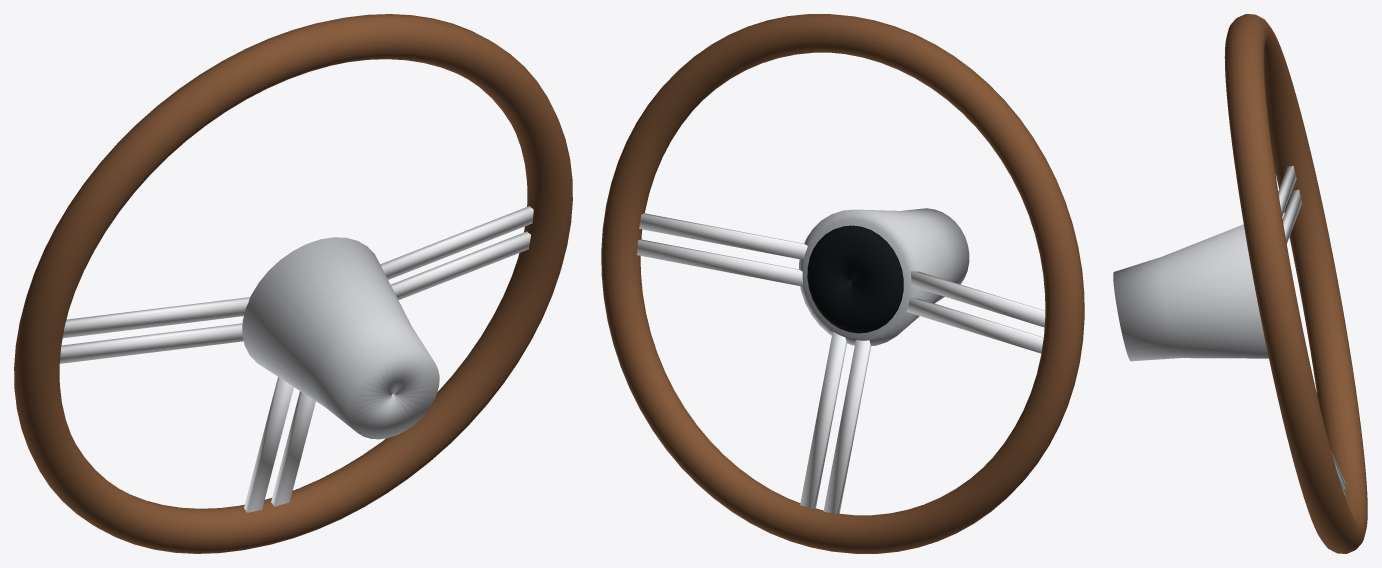
File: SW01_classic_wood_wheel.glb
3 renders of one model, left to right at view 1: azimuth 30°, elevation 25°; view 2: azimuth 150°, elevation 25°; view 3: azimuth 270°, elevation 25°, orthographic. The views are drawn at different scales.
Visible parts, largest first — view 1: MOD_NA_SW01_rim, MOD_NA_SW01_boss, MOD_NA_SW01_spoke1_b, MOD_NA_SW01_spoke1_a, MOD_NA_SW01_spoke0_a, MOD_NA_SW01_spoke0_b, MOD_NA_SW01_spoke2_b, MOD_NA_SW01_spoke2_a; view 2: MOD_NA_SW01_rim, MOD_NA_SW01_boss, MOD_NA_SW01_horn, MOD_NA_SW01_spoke2_b, MOD_NA_SW01_spoke2_a, MOD_NA_SW01_spoke0_a, MOD_NA_SW01_spoke0_b, MOD_NA_SW01_spoke1_a, MOD_NA_SW01_spoke1_b; view 3: MOD_NA_SW01_rim, MOD_NA_SW01_boss, MOD_NA_SW01_spoke1_a, MOD_NA_SW01_spoke1_b.
Boxes of the visible parts, x1,y1,x2,y2 form: MOD_NA_SW01_rim: [14, 14, 572, 553]; MOD_NA_SW01_boss: [242, 237, 439, 439]; MOD_NA_SW01_spoke1_b: [62, 297, 250, 338]; MOD_NA_SW01_spoke1_a: [59, 323, 243, 363]; MOD_NA_SW01_spoke0_a: [380, 206, 533, 279]; MOD_NA_SW01_spoke0_b: [391, 231, 530, 300]; MOD_NA_SW01_spoke2_b: [244, 377, 293, 512]; MOD_NA_SW01_spoke2_a: [271, 391, 315, 506]; MOD_NA_SW01_rim: [601, 14, 1084, 553]; MOD_NA_SW01_boss: [799, 208, 969, 346]; MOD_NA_SW01_horn: [807, 225, 903, 333]; MOD_NA_SW01_spoke2_b: [823, 340, 870, 513]; MOD_NA_SW01_spoke2_a: [800, 331, 846, 508]; MOD_NA_SW01_spoke0_a: [639, 213, 807, 259]; MOD_NA_SW01_spoke0_b: [637, 239, 803, 286]; MOD_NA_SW01_spoke1_a: [906, 298, 1043, 353]; MOD_NA_SW01_spoke1_b: [910, 271, 1045, 327]; MOD_NA_SW01_rim: [1224, 14, 1367, 553]; MOD_NA_SW01_boss: [1113, 224, 1268, 361]; MOD_NA_SW01_spoke1_a: [1282, 189, 1301, 243]; MOD_NA_SW01_spoke1_b: [1278, 165, 1296, 216].
Size of the model in its own units: 0.362 by 0.3545 by 0.1678.
